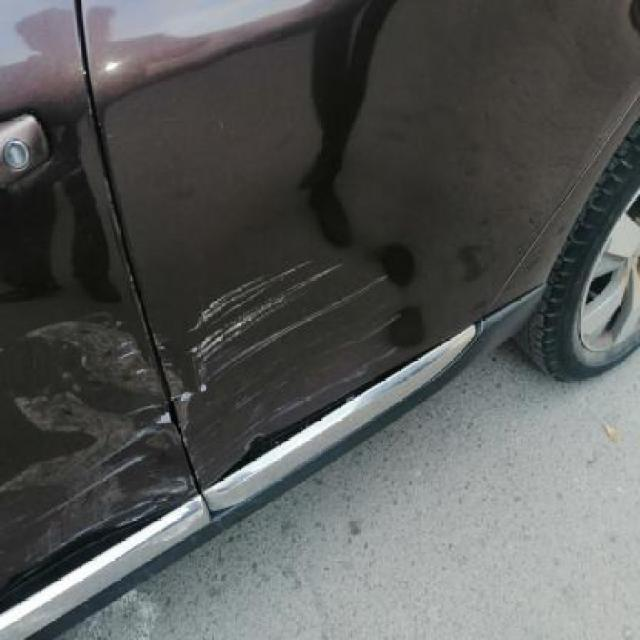car damage: (6, 227, 409, 581)
